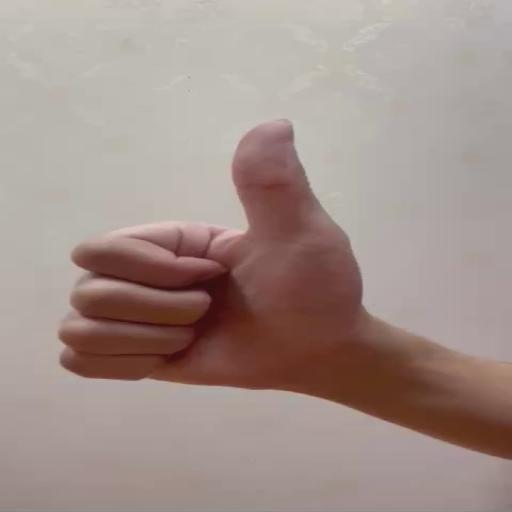thumbs_up: (55, 116, 361, 390)
